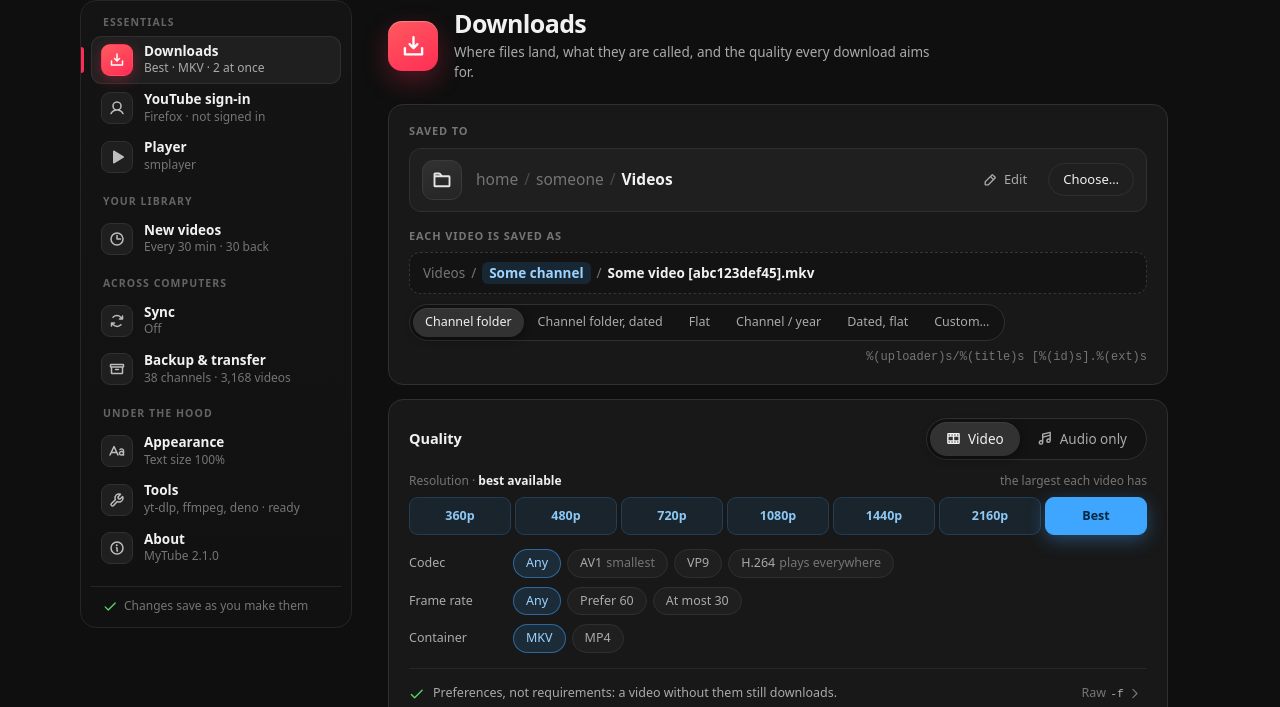
Scenario: the file name template › opens the field on Custom… without saving, holds typing until blur, and closes on a preset
expect the navigation bar named "Settings sections" is shown: met, box top-left (80, 0), bottom-right (352, 628)
Click the radio button labelled "Custom…" at (962, 322), box top-left (934, 313), bottom-right (990, 330)
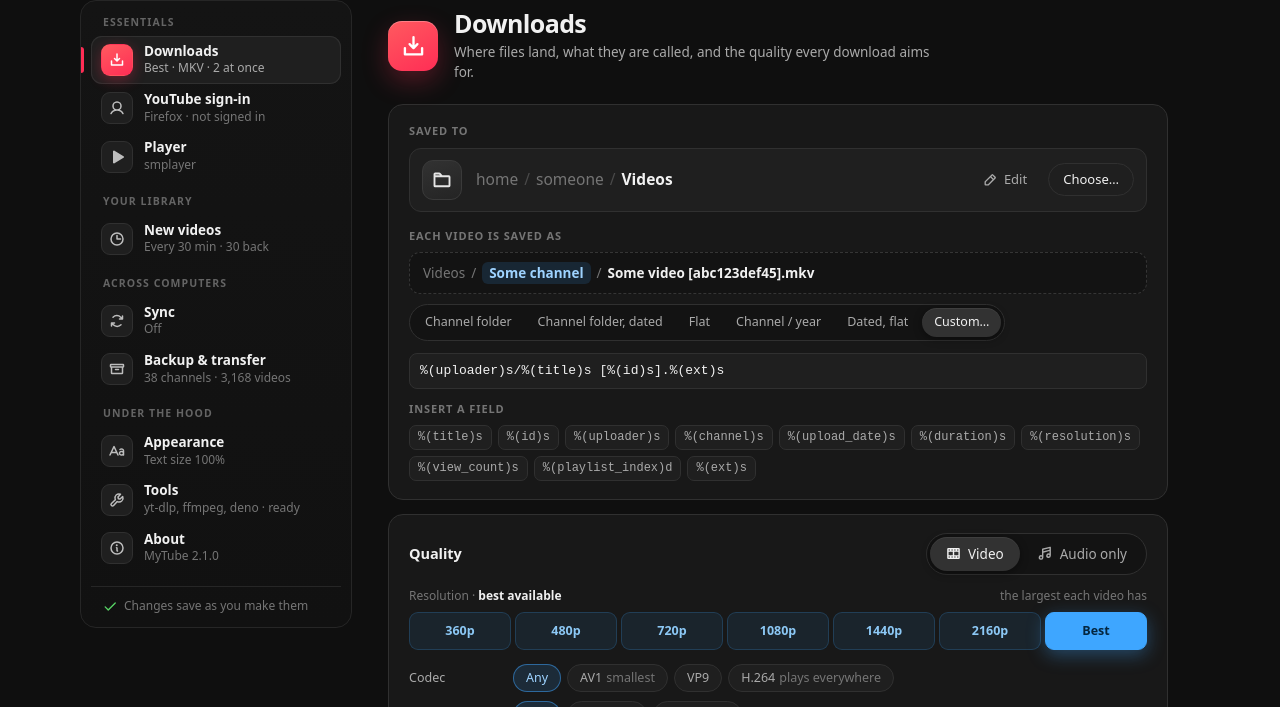
expect the field named "Custom template" holds "%(uploader)s/%(title)s [%(id)s].%(ext)s": met
# Typing that happens to spell another preset keeps the field open.
Replace the text in the field named "Custom template" with "%(title)s [%(id)s].%(ext)s" at (778, 371), box top-left (409, 353), bottom-right (1147, 388)
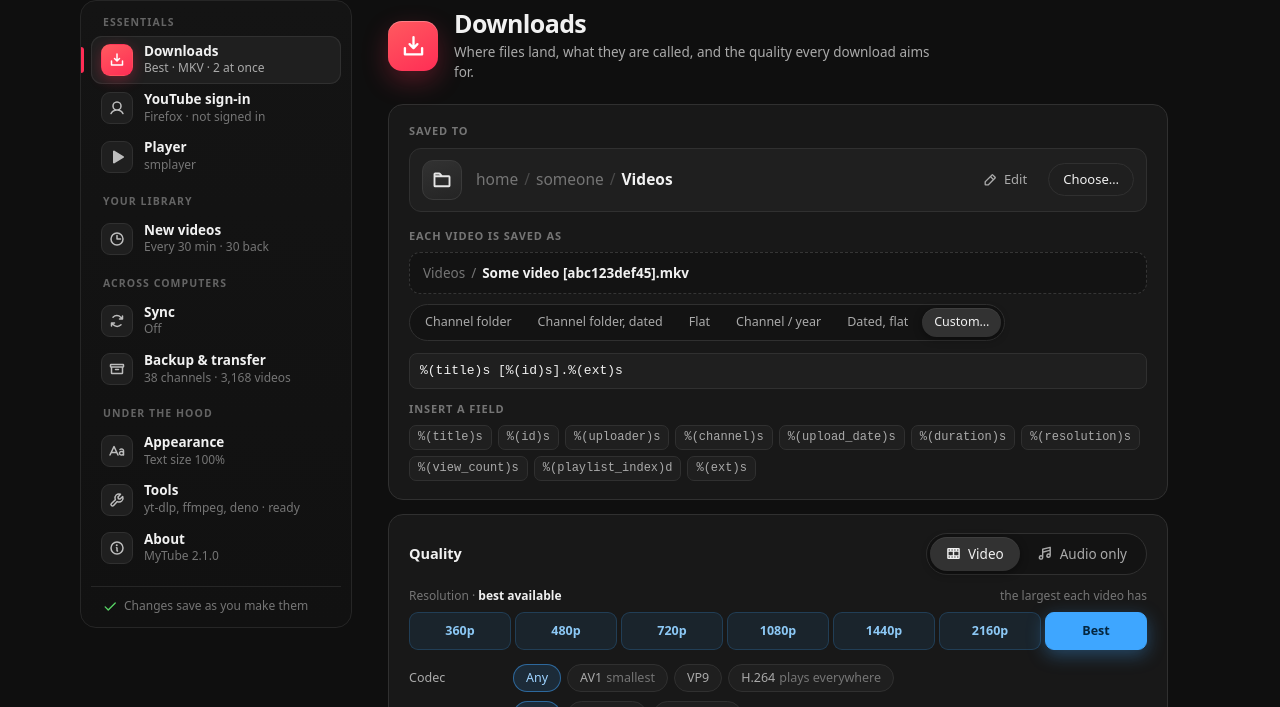
expect the radio button labelled "Custom…" is checked: met, box top-left (922, 308), bottom-right (1002, 337)
Click the radio button labelled "Channel / year" at (779, 322), box top-left (736, 313), bottom-right (821, 330)
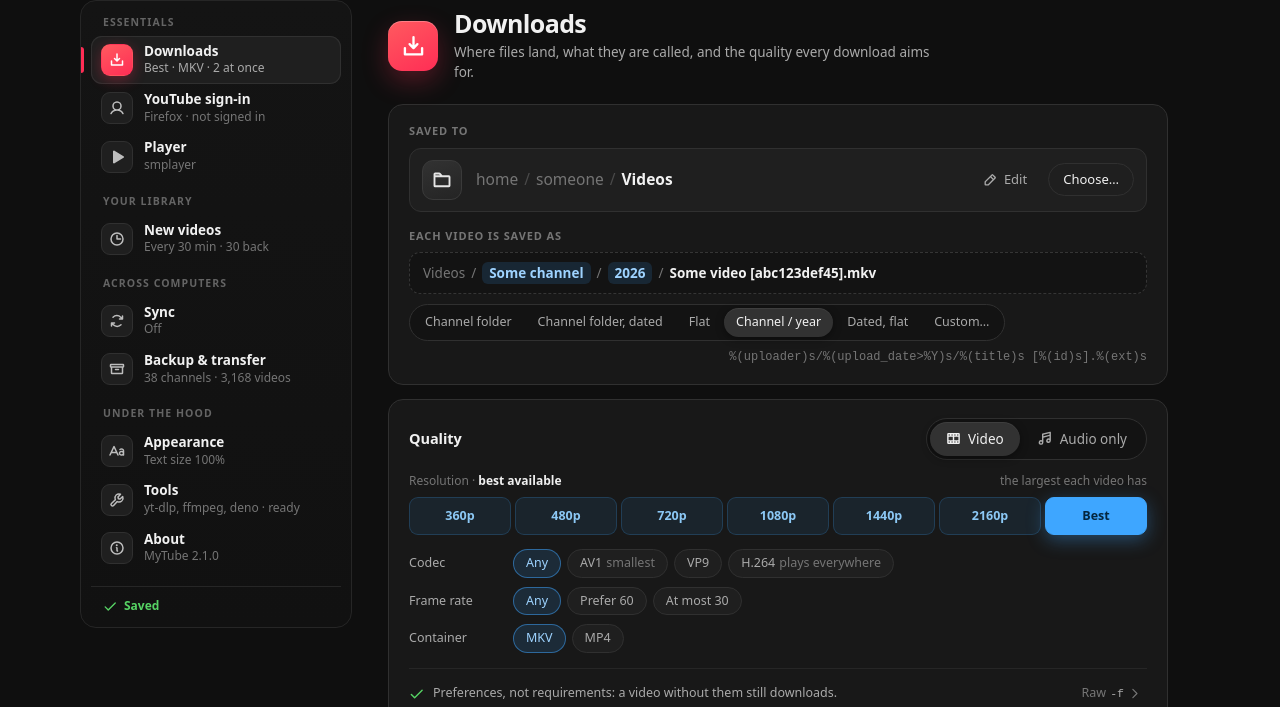
expect the text "%(uploader)s/%(upload_date>%Y)s/%(title)s [%(id)s].%(ext)s" is shown: met, box top-left (729, 350), bottom-right (1147, 364)
